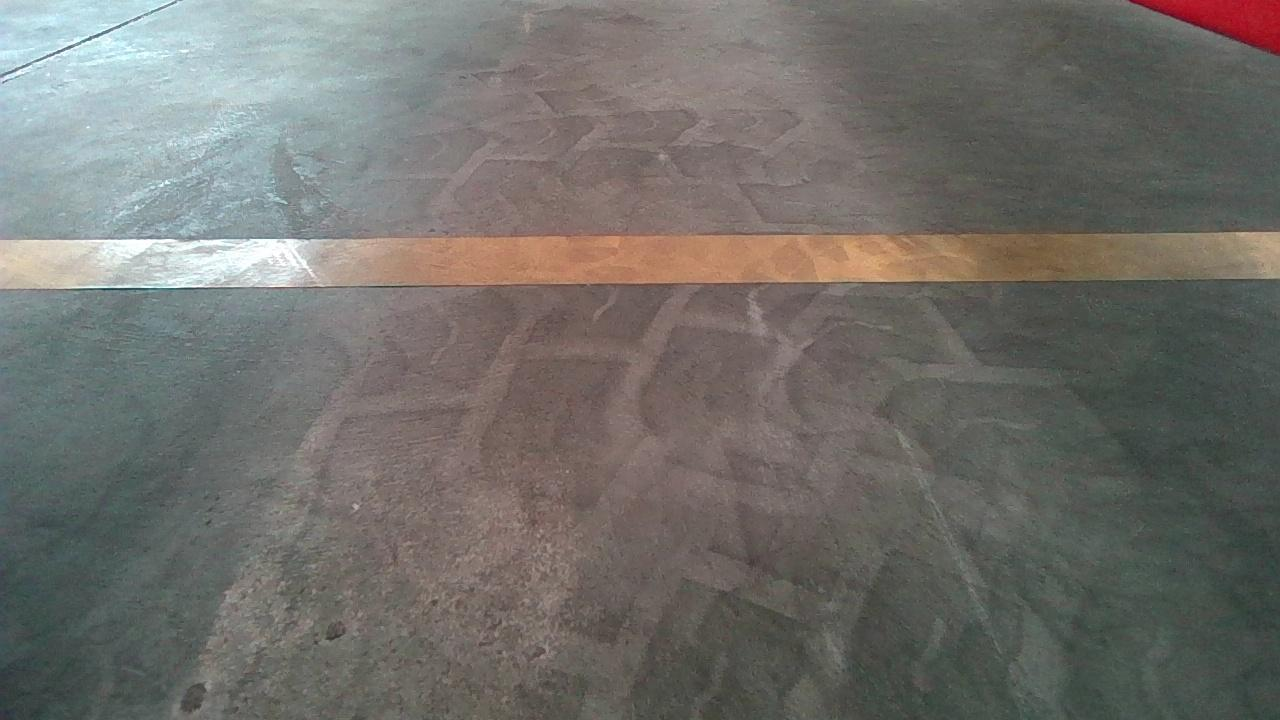yellow_line: (22, 225, 1279, 288)
